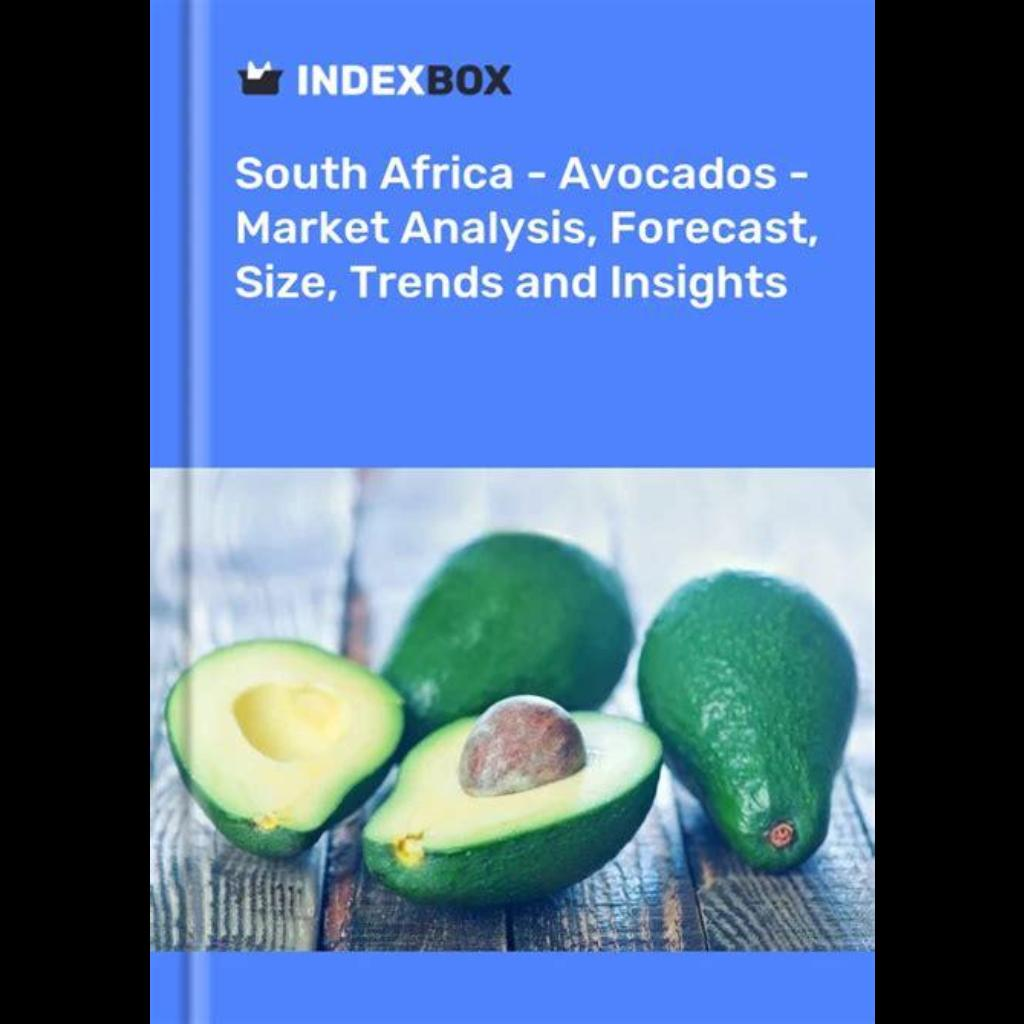Healthy: (158, 508, 874, 898)
